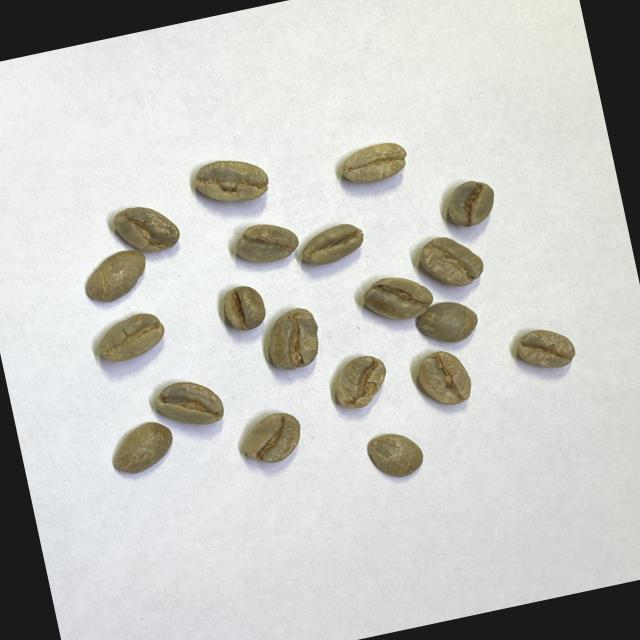bad: (190, 148, 272, 214), (108, 198, 183, 262), (324, 349, 392, 414)
good: (235, 405, 307, 471), (415, 230, 488, 294), (260, 303, 324, 375), (153, 372, 226, 434), (90, 308, 168, 366), (360, 268, 436, 327), (78, 246, 152, 306), (105, 417, 178, 477), (412, 294, 484, 350), (414, 345, 475, 411), (363, 423, 428, 482), (338, 138, 409, 190), (510, 321, 577, 374), (233, 216, 300, 268), (296, 220, 367, 268), (442, 175, 499, 230), (218, 280, 270, 334)
